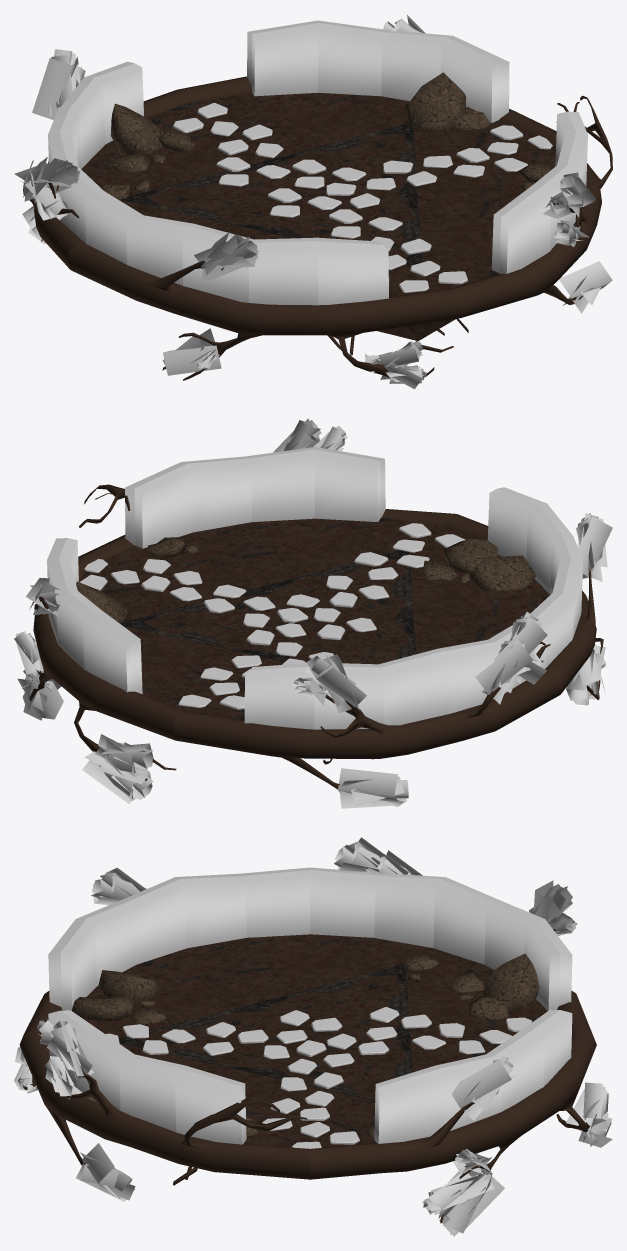
The model's file is Bridge_Nexus_Art.fbx.
3 renders of one model, top to bottom at view 1: azimuth 30°, elevation 25°; view 2: azimuth 150°, elevation 25°; view 3: azimuth 270°, elevation 25°, orthographic.
Visible parts, largest first — view 1: Bridge_Nexus_Art; view 2: Bridge_Nexus_Art; view 3: Bridge_Nexus_Art.
Part boxes in pixels (x1=…): Bridge_Nexus_Art: x1=14, y1=15, x2=612, y2=389; Bridge_Nexus_Art: x1=14, y1=418, x2=612, y2=808; Bridge_Nexus_Art: x1=14, y1=837, x2=612, y2=1236.
Bounding box in the file's own units: 1564 × 581 × 1592.
